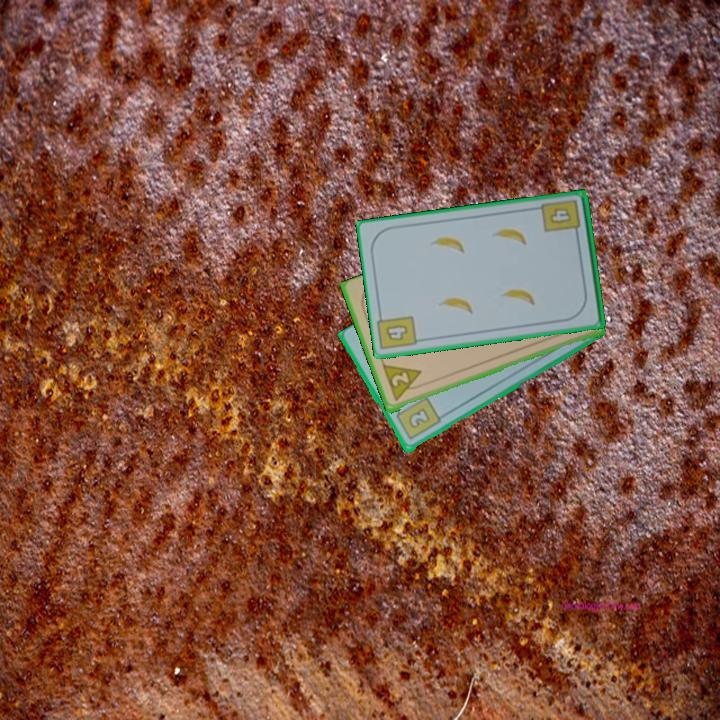2b: (391, 394, 443, 443)
2p: (379, 362, 428, 404)
4b: (538, 196, 583, 240), (382, 321, 410, 344)
